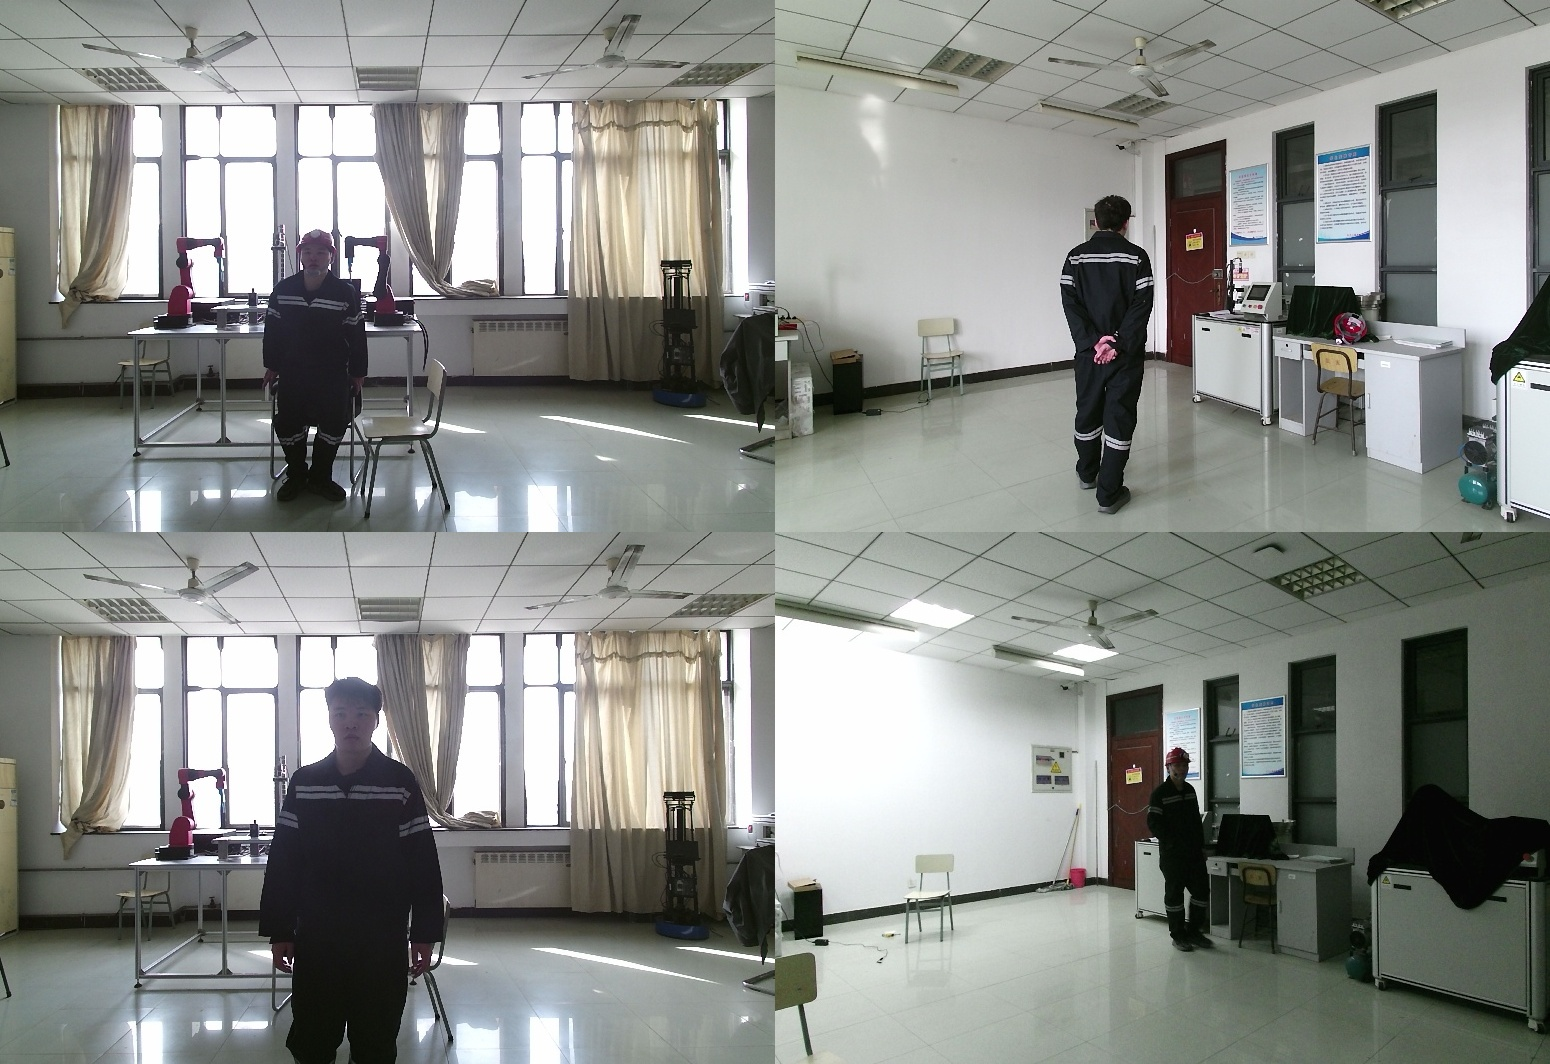person: (268, 678, 458, 1064), (1058, 197, 1167, 513), (262, 230, 376, 500), (1143, 749, 1205, 956)
